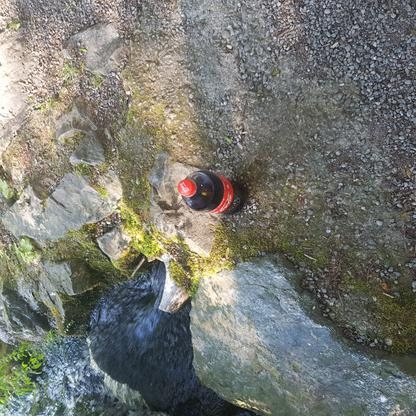coca-cola: (174, 171, 248, 218)
